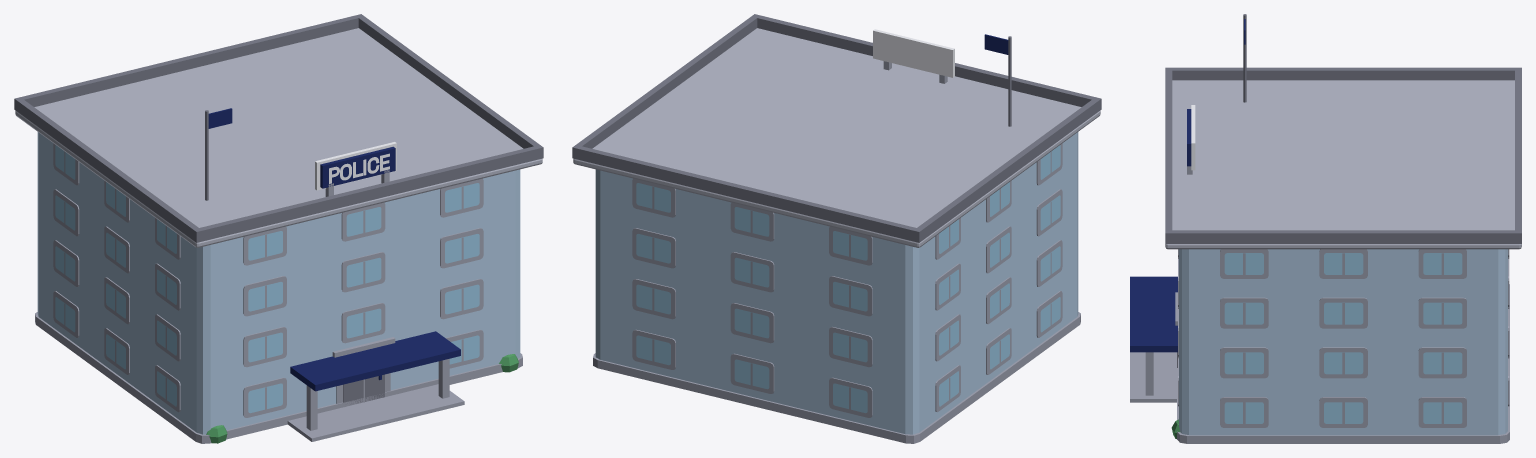
The model's file is police-station-2x2-4f.glb.
3 views of the same model, side by side, from view 1: azimuth 30°, elevation 25°; view 2: azimuth 150°, elevation 25°; view 3: azimuth 270°, elevation 25° (orthographic). The views are drawn at different scales.
Visible parts, largest first — view 1: police-station-2x2-4f; view 2: police-station-2x2-4f; view 3: police-station-2x2-4f.
Boxes of the visible parts, box(x1,y1,x2,y2) form: police-station-2x2-4f: box(14, 14, 543, 443); police-station-2x2-4f: box(572, 14, 1101, 443); police-station-2x2-4f: box(1130, 14, 1521, 443).
Bounding box in the file's own units: 2 × 1.65 × 2.
Materials: 1 (1 with a texture image).
